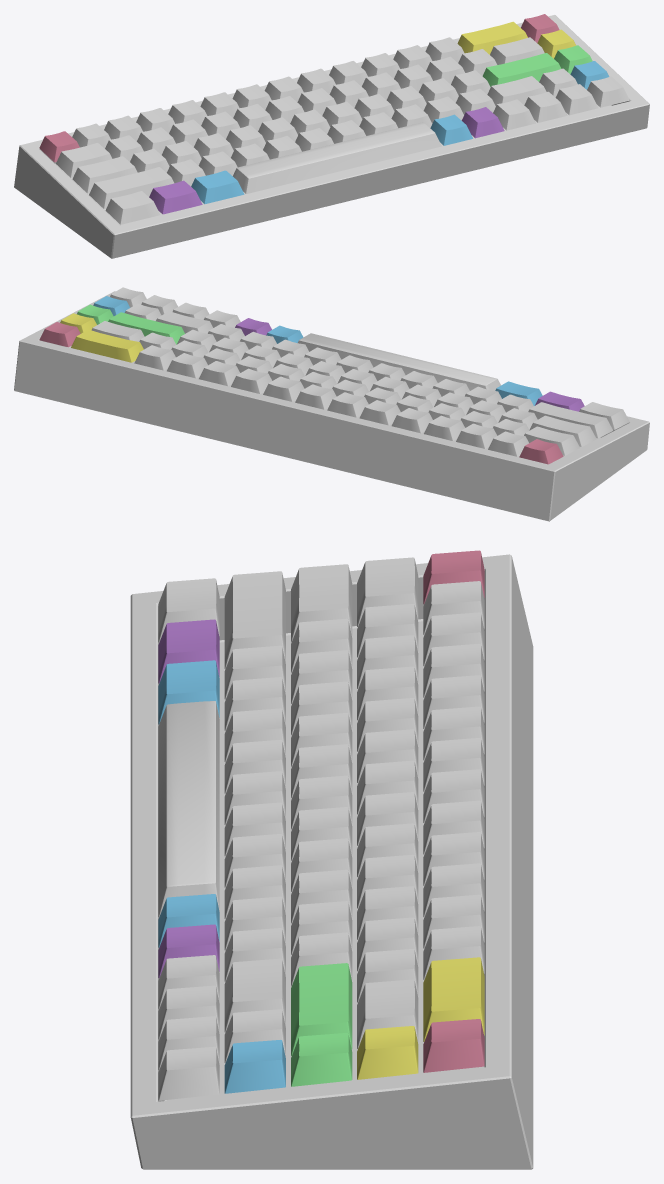
3 renders of one model, top to bottom at view 1: azimuth 30°, elevation 25°; view 2: azimuth 150°, elevation 25°; view 3: azimuth 270°, elevation 25°, orthographic. The views are drawn at different scales.
Parts seen in each view (by area): view 1: NK.65; view 2: NK.65; view 3: NK.65.
Part boxes in pixels (x1=…): NK.65: x1=14, y1=14, x2=649, y2=258; NK.65: x1=14, y1=287, x2=649, y2=521; NK.65: x1=130, y1=550, x2=533, y2=1169.
Bounding box in the file's own units: 0.4 × 0.0432 × 0.13.
